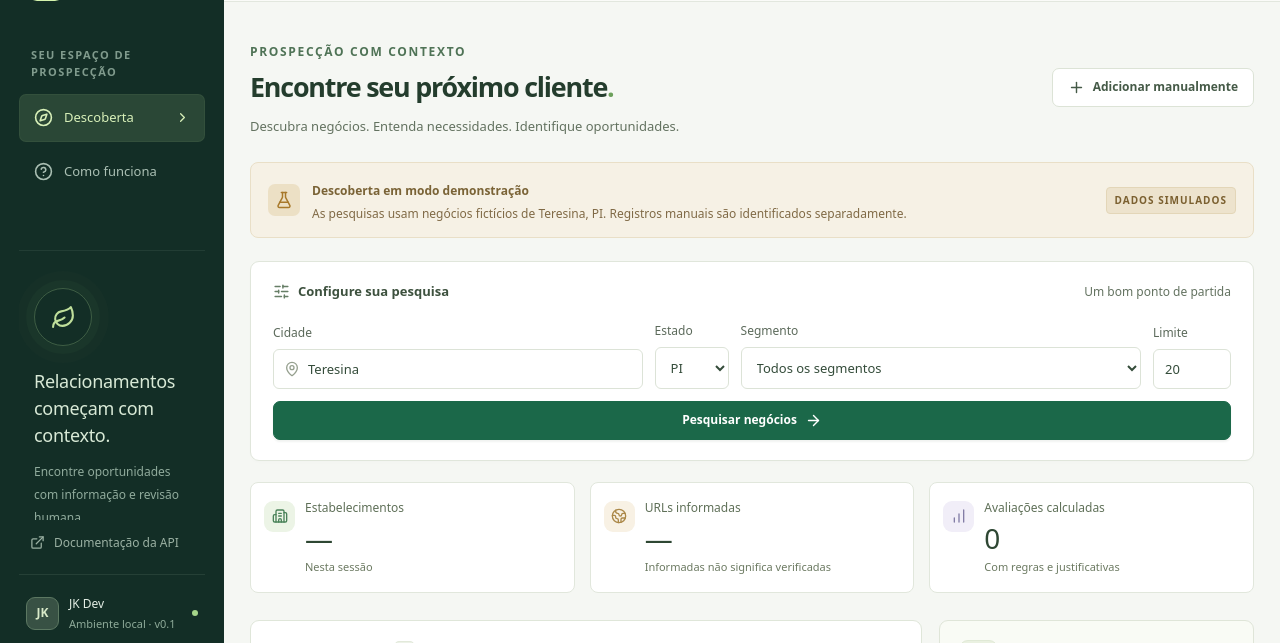
Test: primeira versão do dashboard › mostra um estado vazio quando a API não encontra estabelecimentos
Click the button "Pesquisar negócios": [752, 420] box [273, 401, 1231, 440]
(page scrolled)
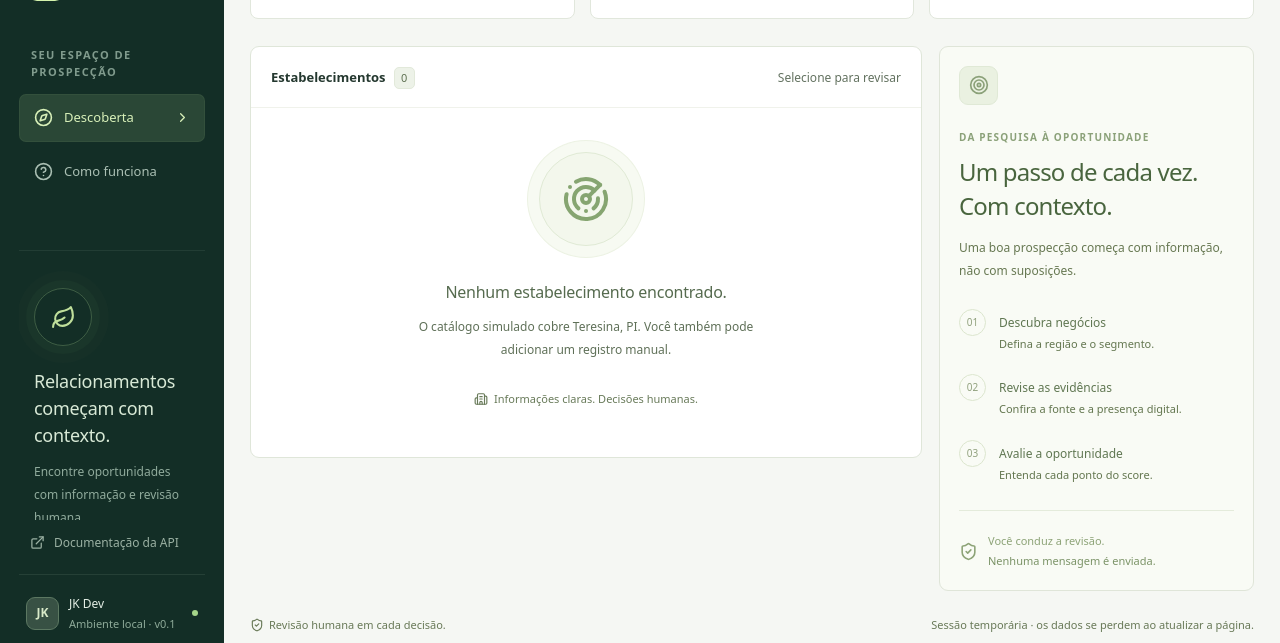
expect the heading "Nenhum estabelecimento encontrado." is shown: met, box [445, 280, 727, 304]
